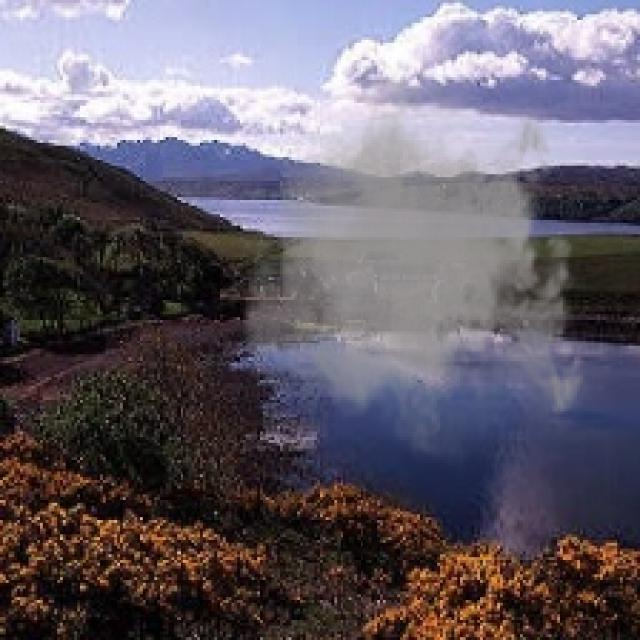Smoke: (237, 52, 594, 477)
